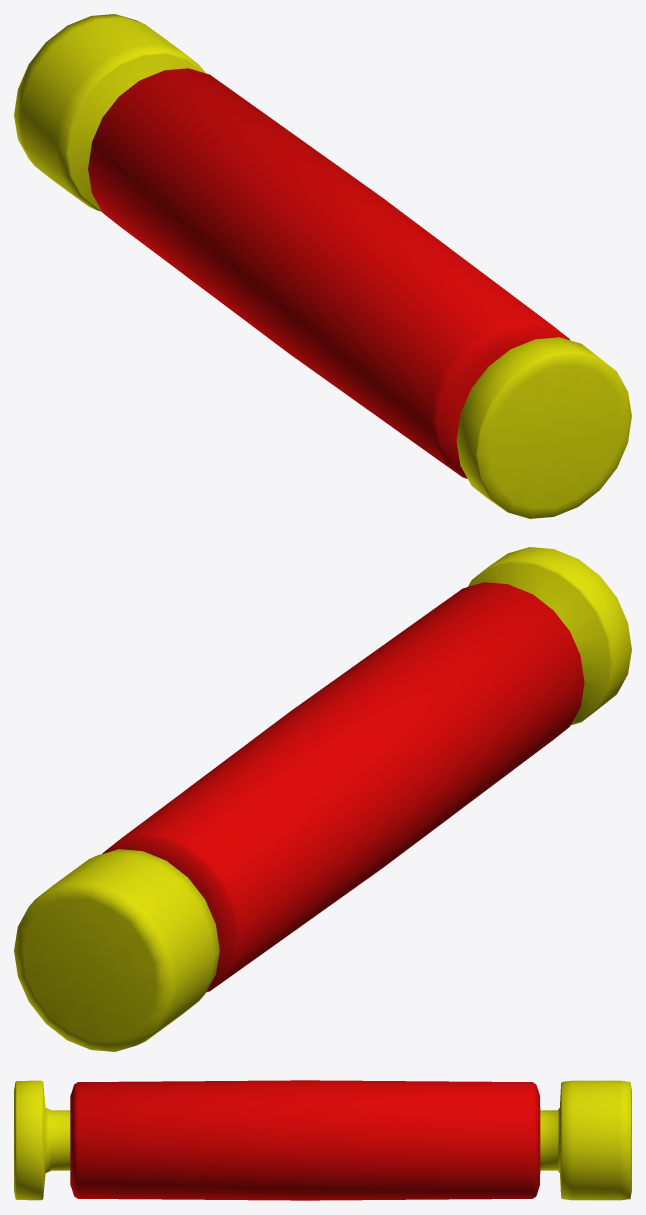
File: Shotgun_Bullet.fbx
3 views of the same model, one above another, from view 1: azimuth 30°, elevation 25°; view 2: azimuth 150°, elevation 25°; view 3: azimuth 270°, elevation 25° (orthographic). The views are drawn at different scales.
Visible parts, largest first — view 1: Shotgun_Bullet_Low; view 2: Shotgun_Bullet_Low; view 3: Shotgun_Bullet_Low.
Boxes of the visible parts, x1,y1,x2,y2 form: Shotgun_Bullet_Low: [14, 14, 631, 518]; Shotgun_Bullet_Low: [14, 547, 631, 1051]; Shotgun_Bullet_Low: [14, 1080, 631, 1200].
Bounding box in the file's own units: 2.38 × 2.38 × 12.15.
